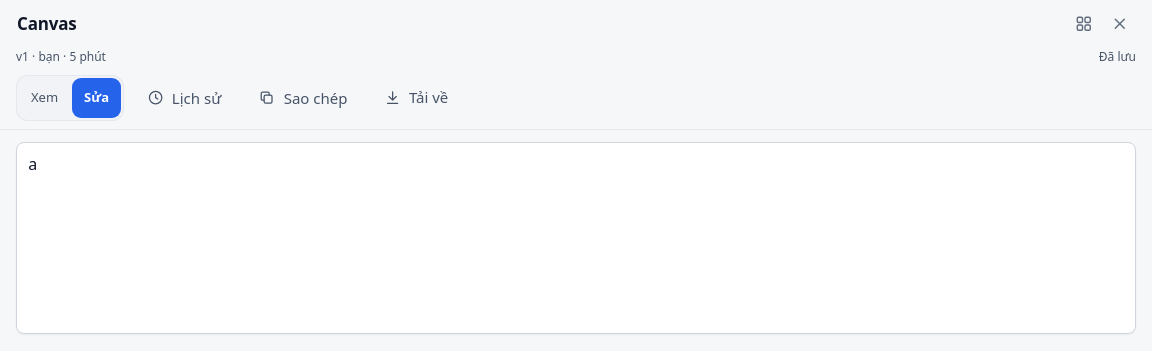
it: the save line › says the server is not answering while the device has a network
This screenshot has width=1152, height=351.
Replace the text in the text box named "Nội dung canvas" with "ab" at (576, 238), box [16,142,1136,334]
Wait 1500 ms
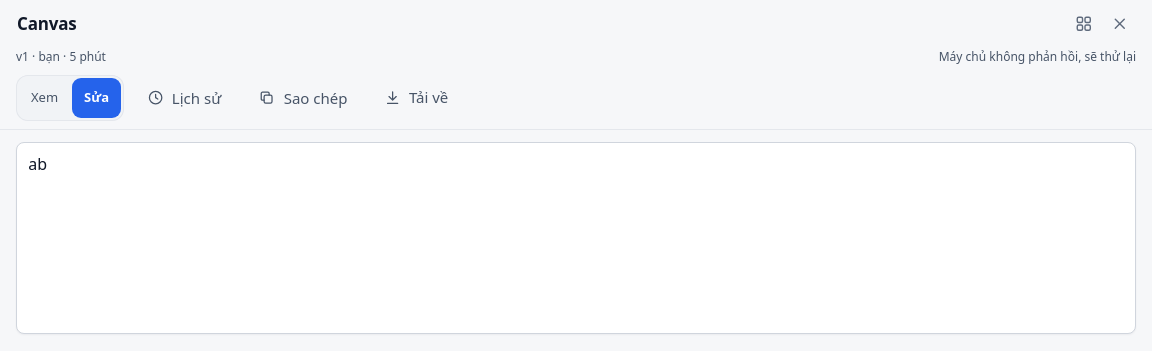
Result: the message with class "canvas-save-state" reads "Máy chủ không phản hồi, sẽ thử lại" at [939,48,1136,65]
